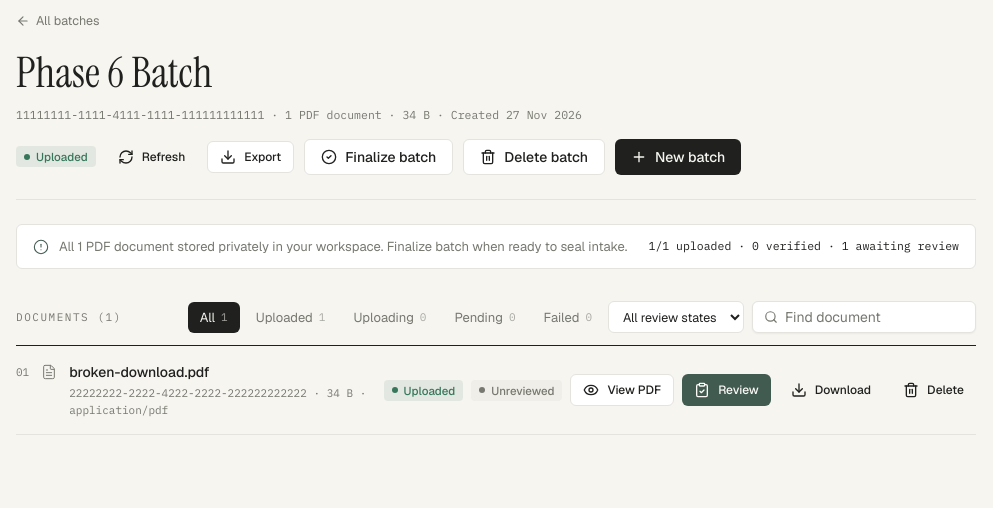
Phase 6 — Document access UI (preview, unavailable recovery, search, single delete, focus) › shows recoverable inline error on Download failure and recovers cleanly on retry without saving JSON as a PDF
This screenshot has width=993, height=508.
Later steps or results of the test are not shown.
Click the button with aria-label "Download broken-download.pdf": x=831, y=390 [779, 374, 883, 406]
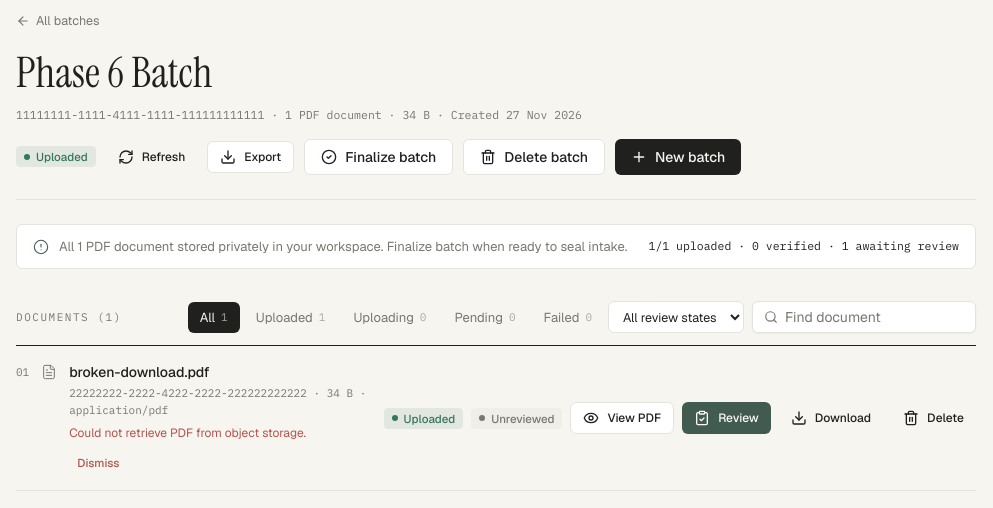
Result: the text "Could not retrieve PDF from object storage." is shown at [69, 424, 306, 442]
Click the button "Dismiss": x=98, y=462 [69, 450, 128, 474]
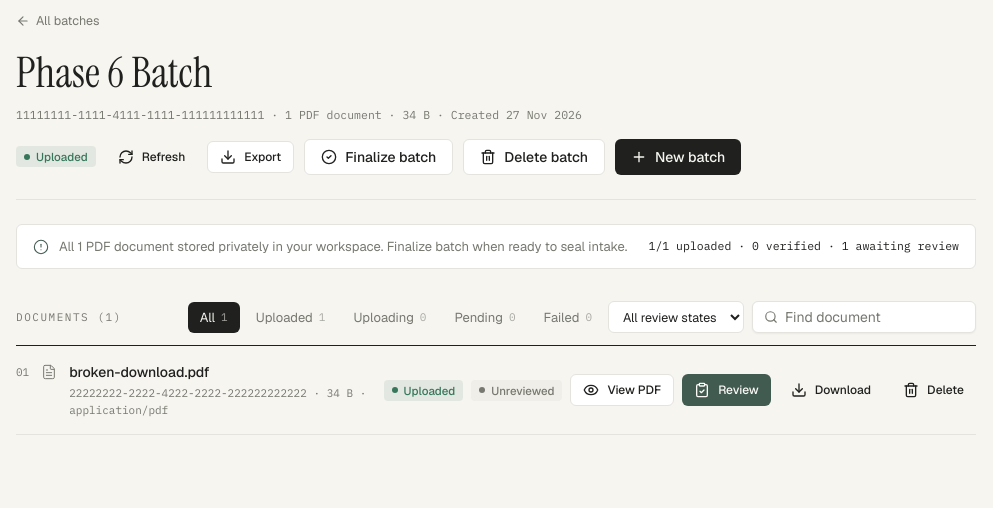
Result: the text "Could not retrieve PDF from object storage." is gone
